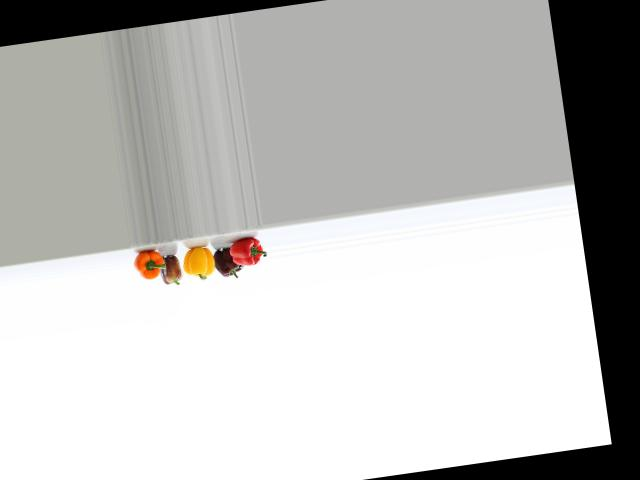bell_pepper: (131, 244, 169, 291)
